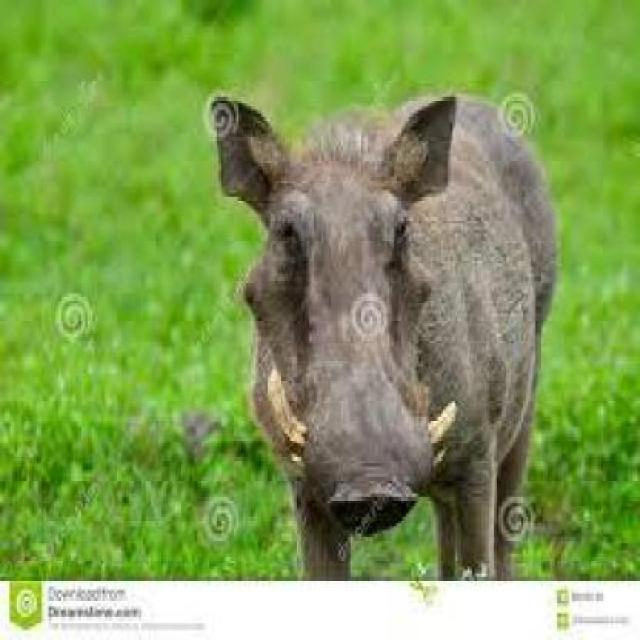wildboar: (209, 84, 557, 578)
